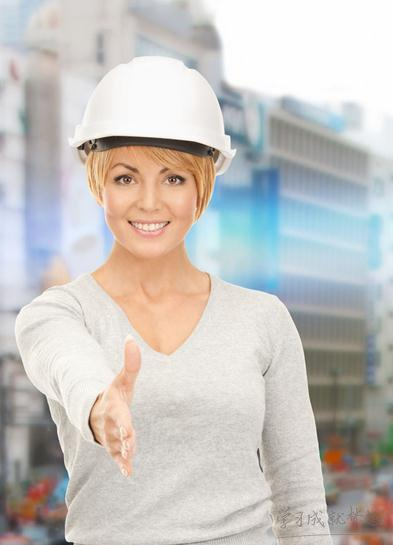helmet: (71, 56, 238, 177)
